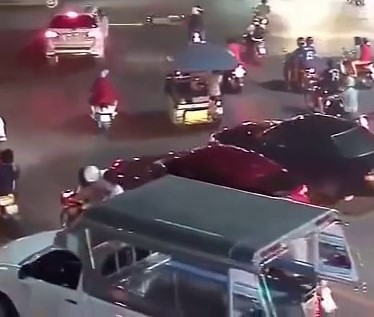car: (1, 172, 358, 315), (108, 142, 310, 232), (209, 116, 374, 202), (45, 5, 110, 66)
motorbike: (326, 74, 370, 134), (333, 38, 374, 91), (283, 36, 318, 93), (91, 70, 118, 133), (245, 17, 268, 63), (188, 7, 206, 45)
